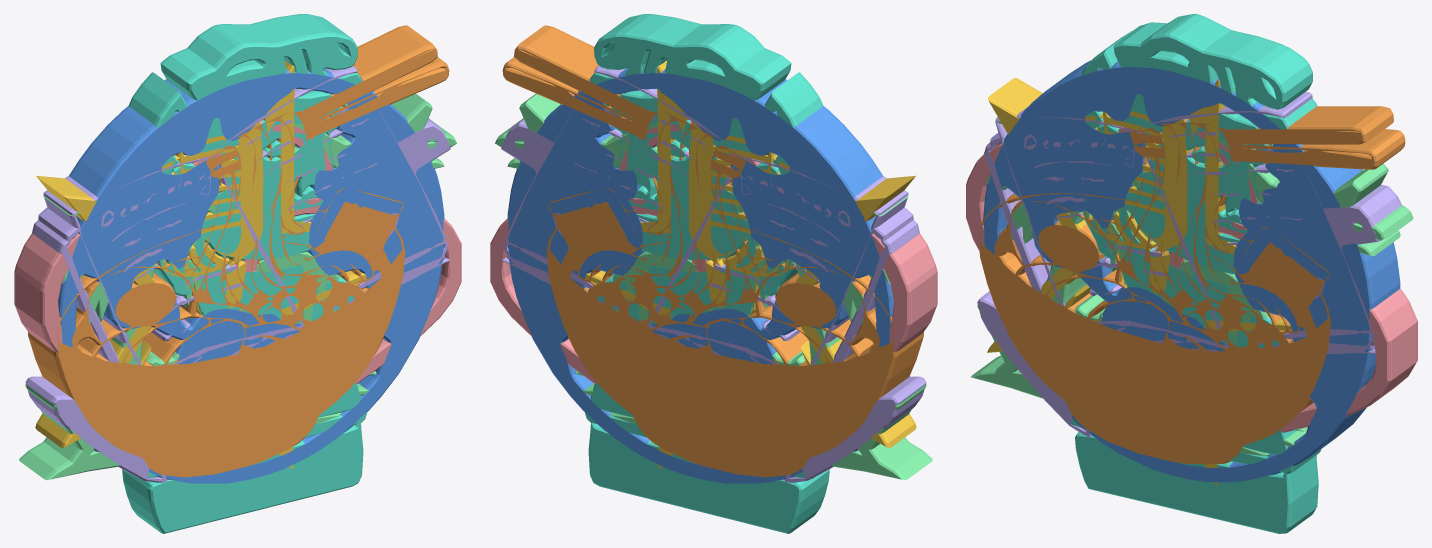
Rendered from icons.glb.
The picture shows the model from 3 angles, left to right: view 1: azimuth 30°, elevation 25°; view 2: azimuth 150°, elevation 25°; view 3: azimuth 330°, elevation 25°; orthographic projection.
Visible parts, largest first — view 1: food__mesh, common__mesh, philosophical__mesh, personal__mesh, culture__mesh, romantic__mesh, travelAndAdventure__mesh; view 2: food__mesh, common__mesh, philosophical__mesh, personal__mesh, culture__mesh, travelAndAdventure__mesh, romantic__mesh; view 3: food__mesh, common__mesh, philosophical__mesh, personal__mesh, culture__mesh, travelAndAdventure__mesh, romantic__mesh.
Boxes of the visible parts, x1,y1,x2,y2 form: food__mesh: [28, 25, 449, 477]; common__mesh: [58, 68, 444, 483]; philosophical__mesh: [122, 14, 367, 533]; personal__mesh: [25, 66, 450, 482]; culture__mesh: [35, 60, 366, 469]; romantic__mesh: [14, 121, 461, 383]; travelAndAdventure__mesh: [19, 93, 456, 480]; food__mesh: [502, 25, 923, 477]; common__mesh: [507, 68, 893, 483]; philosophical__mesh: [584, 14, 829, 533]; personal__mesh: [501, 66, 926, 482]; culture__mesh: [585, 60, 916, 469]; travelAndAdventure__mesh: [495, 93, 932, 480]; romantic__mesh: [490, 121, 937, 383]; food__mesh: [979, 106, 1405, 464]; common__mesh: [983, 60, 1400, 482]; philosophical__mesh: [1066, 14, 1321, 533]; personal__mesh: [977, 92, 1401, 437]; culture__mesh: [987, 78, 1291, 486]; travelAndAdventure__mesh: [971, 121, 1413, 456]; romantic__mesh: [966, 119, 1417, 432].
Size of the model in its own units: 1.09 by 1.17 by 0.1342.
